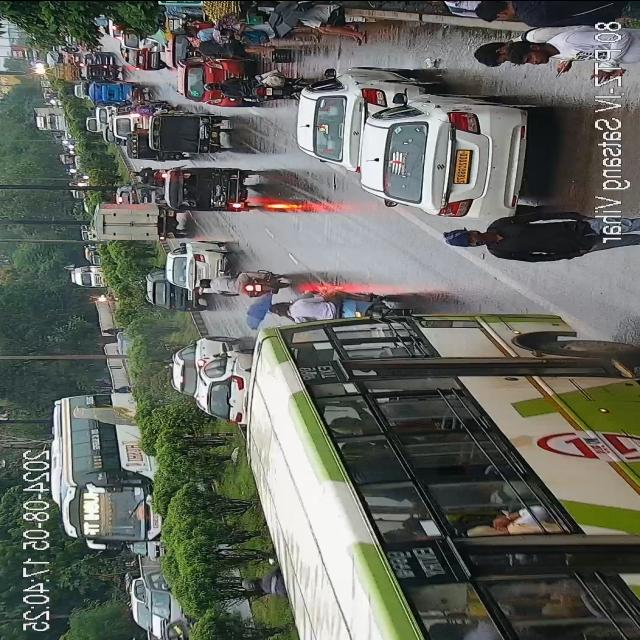2-wheelers: (264, 292, 400, 320), (194, 270, 283, 298), (202, 71, 276, 104), (82, 52, 120, 80), (130, 170, 164, 186), (122, 100, 172, 110)
auto: (165, 167, 253, 217), (148, 112, 224, 155), (126, 132, 188, 160)
bus: (222, 298, 616, 640), (40, 389, 168, 549)
car: (360, 92, 530, 220), (294, 72, 402, 166), (198, 342, 252, 432), (123, 576, 189, 630), (180, 53, 243, 103), (169, 242, 229, 294), (170, 338, 226, 390), (142, 267, 204, 313), (110, 102, 150, 128), (126, 43, 157, 71), (96, 104, 112, 128)
pedestrian: (472, 24, 588, 84), (449, 222, 603, 258), (415, 0, 553, 24), (301, 0, 360, 42), (186, 27, 275, 52)
truck: (92, 192, 186, 242)
